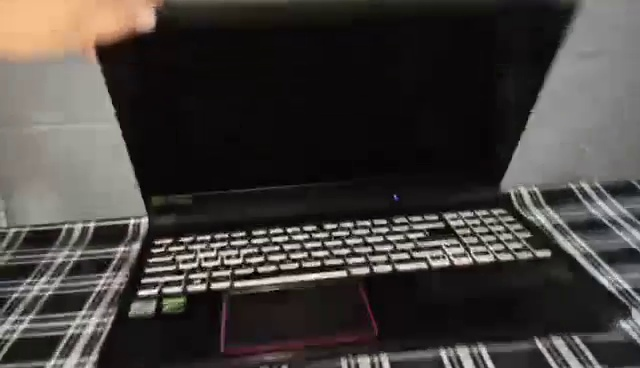laptop: (90, 1, 630, 368)
